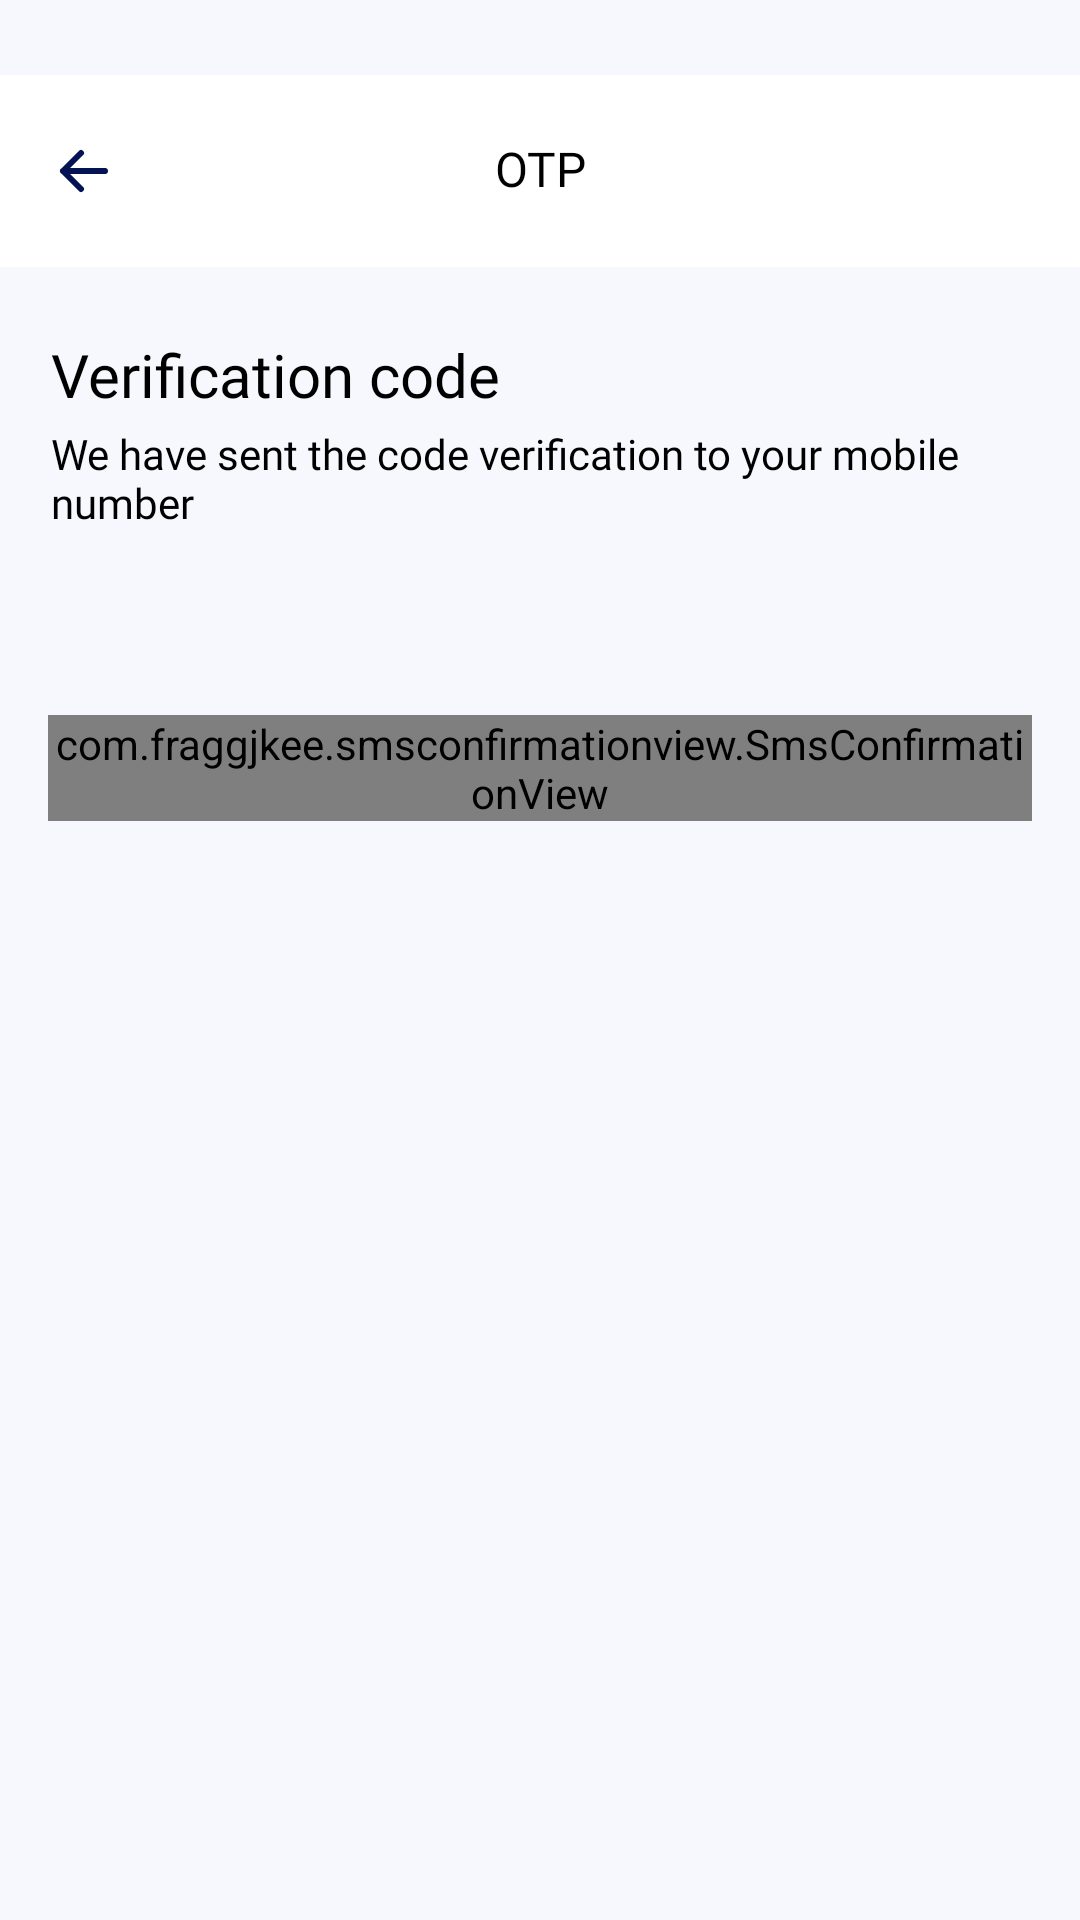

Icons on this 1080*1920 Android screen, each with the point to tap as (x,y):
arrow left: (84,171)
